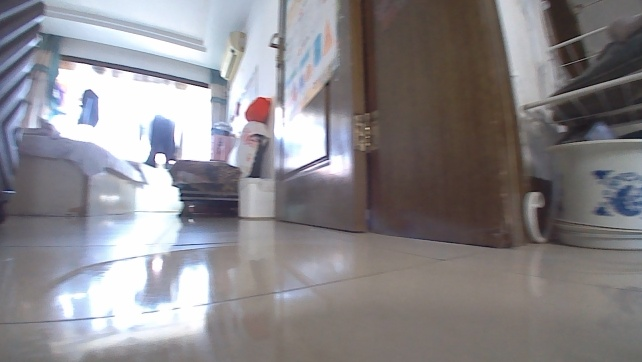bed1: (0, 125, 148, 220)
door_anno: (266, 0, 530, 251)
sofa: (169, 134, 267, 218)
